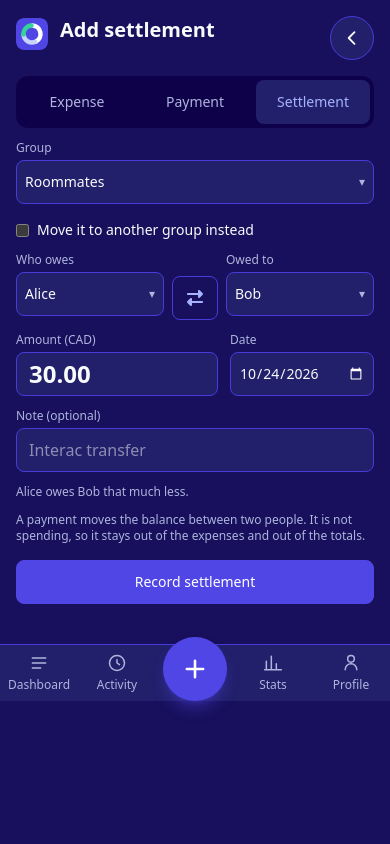
Test: recording a settlement › says so when nothing is owed that way round
This screenshot has width=390, height=844.
Click the button with test id "swap-sides" at point(195, 298), box [172,276,218,320]
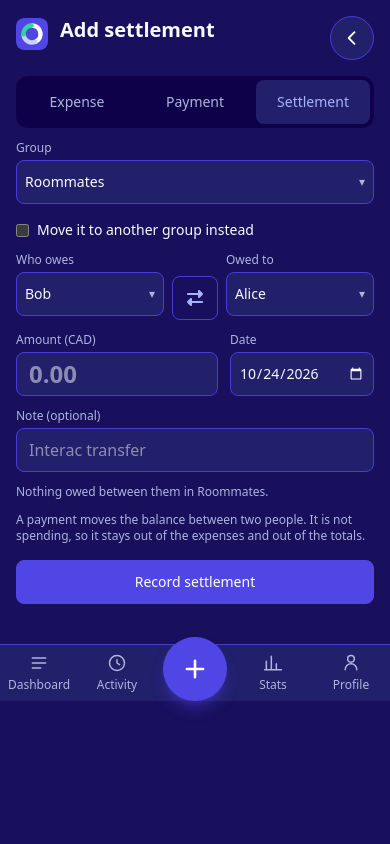
Check: the text with test id "nothing-owed" reads "Nothing owed between them in Roommates.", box [16,483,269,500]
